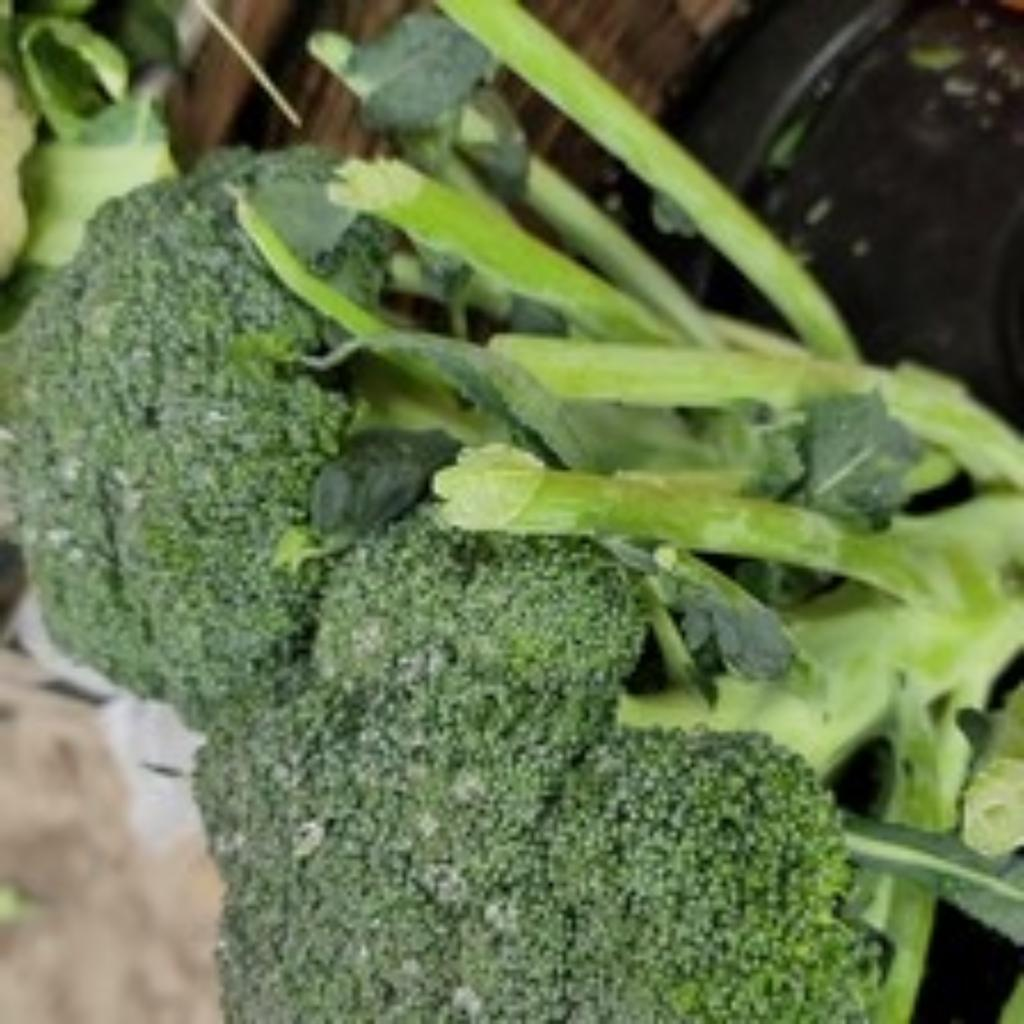Broccoli: (24, 160, 876, 1023), (22, 162, 874, 1023)
